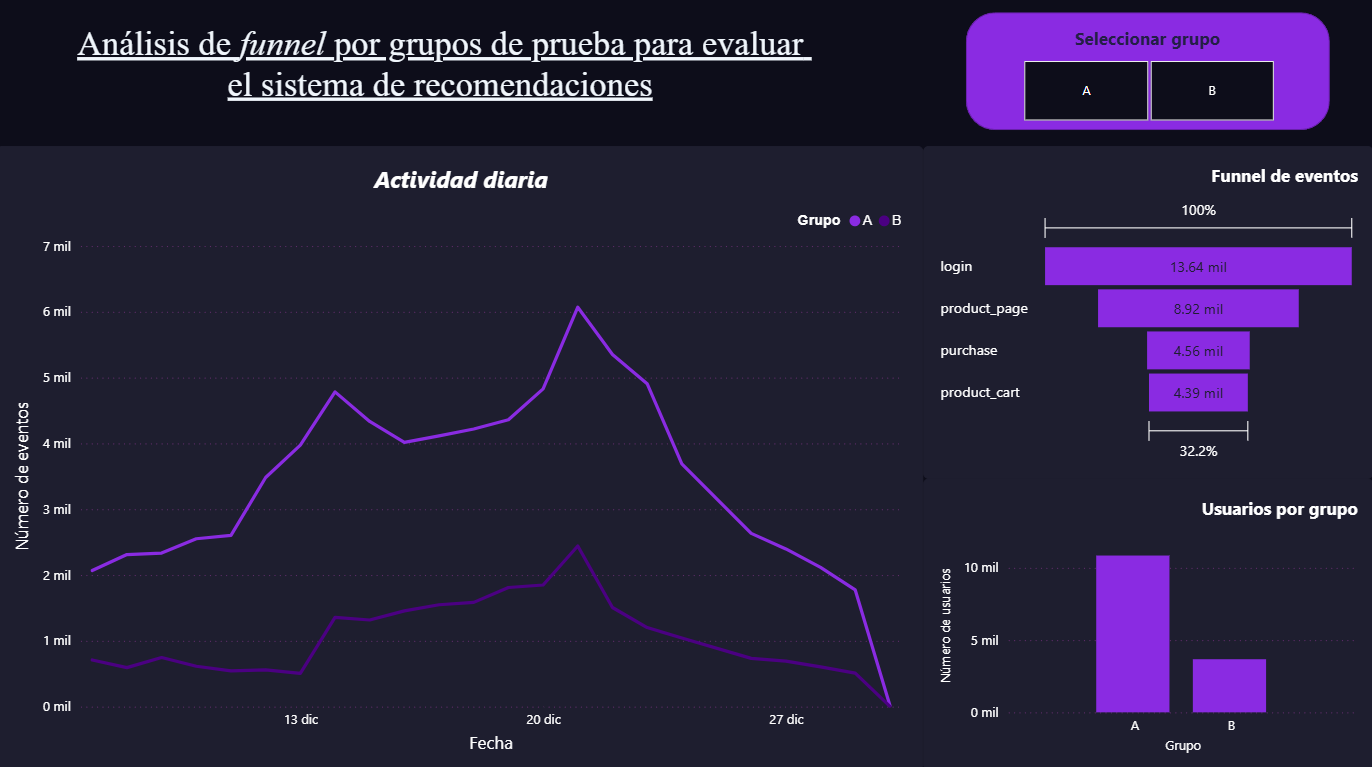

Layout of this report page (visuals, bound fields, positions):
{"tool":"powerbi","page":{"name":"Página 1","canvas":[1280,720],"ordinal":0},"visuals":[{"type":"funnel","title":"Funnel de eventos","fields":{"Category":["events_with_group.event_name"],"Y":["Count(events_with_group.user_id)"]},"box":[861.6,139.5,418.6,309.3],"z":0},{"type":"columnChart","title":"Usuarios por grupo","fields":{"Category":["events_with_group.group"],"Y":["Count(events_with_group.user_id)"]},"box":[861.6,448.8,418.6,270.9],"z":1000},{"type":"lineChart","title":"Actividad diaria","fields":{"Y":["CountNonNull(events_with_group.event_name)"],"Series":["events_with_group.group"],"Category":["events_with_group.date"]},"box":[0,139.5,861.6,580.2],"z":2000},{"type":"textbox","box":[62.8,25.6,698.8,100],"z":3000},{"type":"shape","box":[886,0,368.6,139.5],"z":4000},{"type":"slicer","fields":{"Values":["events_with_group.group"]},"box":[934.9,58.1,272.1,59.3],"z":5000},{"type":"textbox","box":[960.5,27.9,219.8,30.2],"z":6000}]}

Visuals, with their boxes in screenshot pixels (x1, y1, x2, y2), scaled from the page's 1280x720 canvas onto the 1372x767 screenshot:
"Funnel de eventos" funnel: [x1=924, y1=149, x2=1371, y2=478]
"Usuarios por grupo" columnChart: [x1=924, y1=478, x2=1371, y2=766]
"Actividad diaria" lineChart: [x1=0, y1=149, x2=924, y2=766]
textbox: [x1=67, y1=27, x2=816, y2=134]
shape: [x1=950, y1=0, x2=1345, y2=149]
slicer - events_with_group.group: [x1=1002, y1=62, x2=1294, y2=125]
textbox: [x1=1030, y1=30, x2=1265, y2=62]
